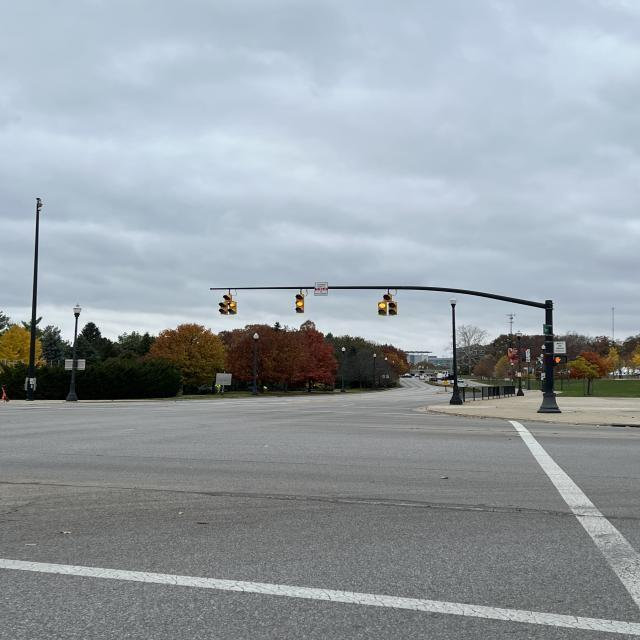yellow_light: (376, 290, 396, 314), (217, 288, 236, 313), (293, 290, 303, 311)
